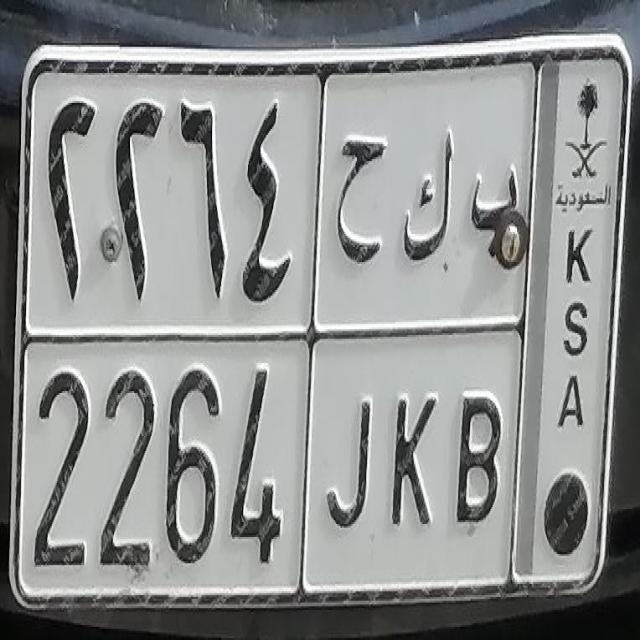license_plate: (15, 40, 632, 606)
